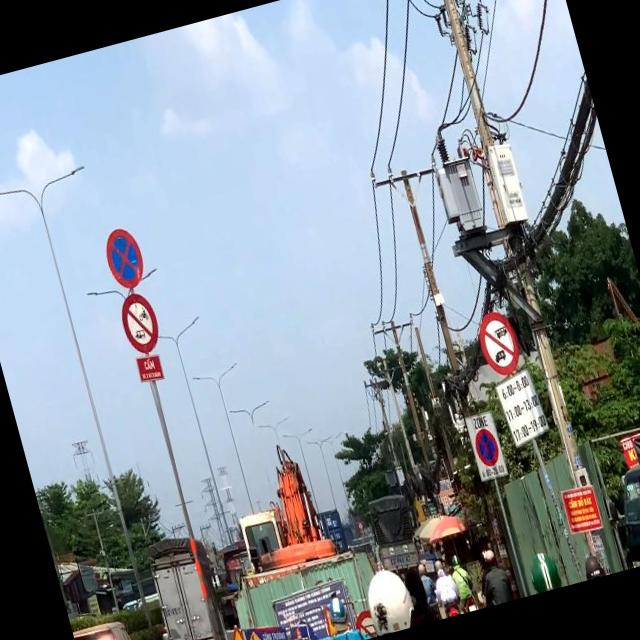P-104: (115, 288, 163, 358)
P-130: (100, 222, 146, 288)
